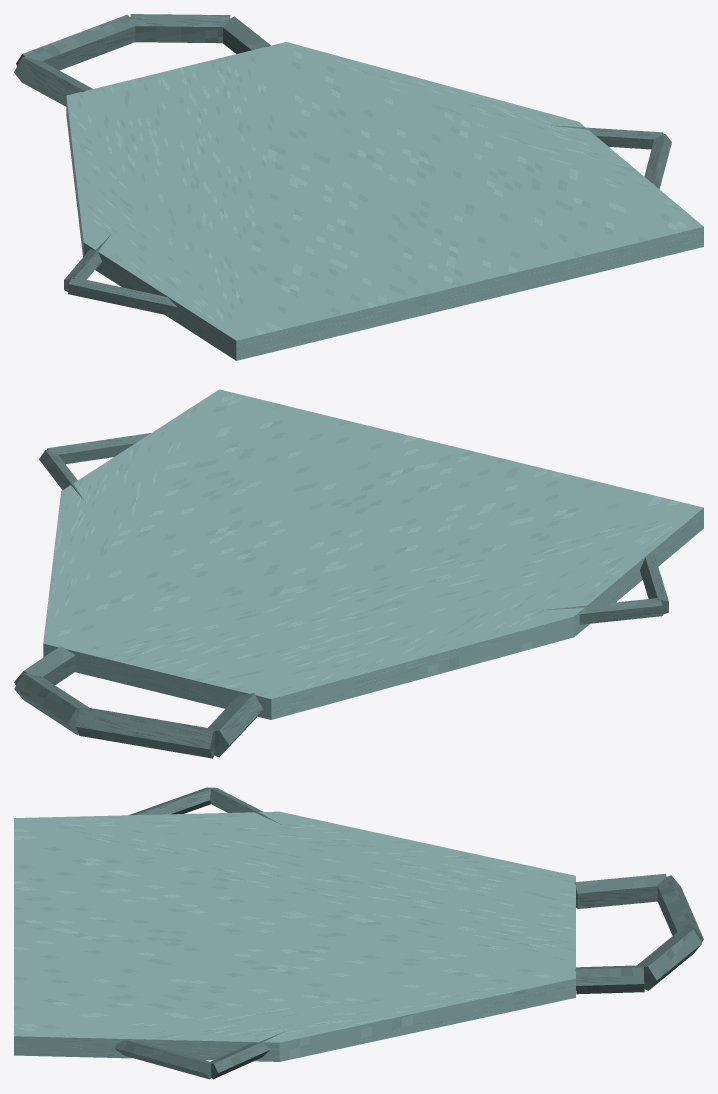
File: apron_plastic.glb
The picture shows the model from 3 angles, top to bottom: view 1: azimuth 30°, elevation 25°; view 2: azimuth 150°, elevation 25°; view 3: azimuth 270°, elevation 25°; orthographic projection. The views are drawn at different scales.
Visible parts, largest first — view 1: block_apron panel, block_neck loop 1, block_waist tie 1 (×2), block_neck loop 2, block_waist tie 0 (×2), block_neck loop 0, block_neck loop 3; view 2: block_apron panel, block_neck loop 1, block_waist tie 0 (×2), block_waist tie 1 (×2), block_neck loop 2, block_neck loop 0, block_neck loop 3; view 3: block_apron panel, block_waist tie 1 (×2), block_neck loop 0, block_neck loop 3, block_waist tie 0 (×2), block_neck loop 2, block_neck loop 1.
Part boxes in pixels (<box>): block_apron panel: <box>66,42,703,360</box>; block_neck loop 1: <box>16,14,135,70</box>; block_waist tie 1 (×2): <box>68,134,671,317</box>; block_neck loop 2: <box>130,14,230,43</box>; block_waist tie 0 (×2): <box>64,125,663,291</box>; block_neck loop 0: <box>14,56,92,106</box>; block_neck loop 3: <box>223,16,270,53</box>; block_apron panel: <box>43,389,703,719</box>; block_neck loop 1: <box>76,708,214,758</box>; block_waist tie 0 (×2): <box>39,450,662,624</box>; block_waist tie 1 (×2): <box>46,433,668,614</box>; block_neck loop 2: <box>14,673,89,734</box>; block_neck loop 0: <box>208,693,263,757</box>; block_neck loop 3: <box>14,646,75,685</box>; block_apron panel: <box>14,811,575,1061</box>; block_waist tie 1 (×2): <box>115,787,212,1079</box>; block_neck loop 0: <box>574,873,666,908</box>; block_neck loop 3: <box>575,965,644,994</box>; block_waist tie 0 (×2): <box>209,787,284,1079</box>; block_neck loop 2: <box>637,929,702,990</box>; block_neck loop 1: <box>657,875,703,941</box>.
Size of the model in its own units: 0.6011 by 0.0289 by 0.6224.
1 material, 1 textured.
